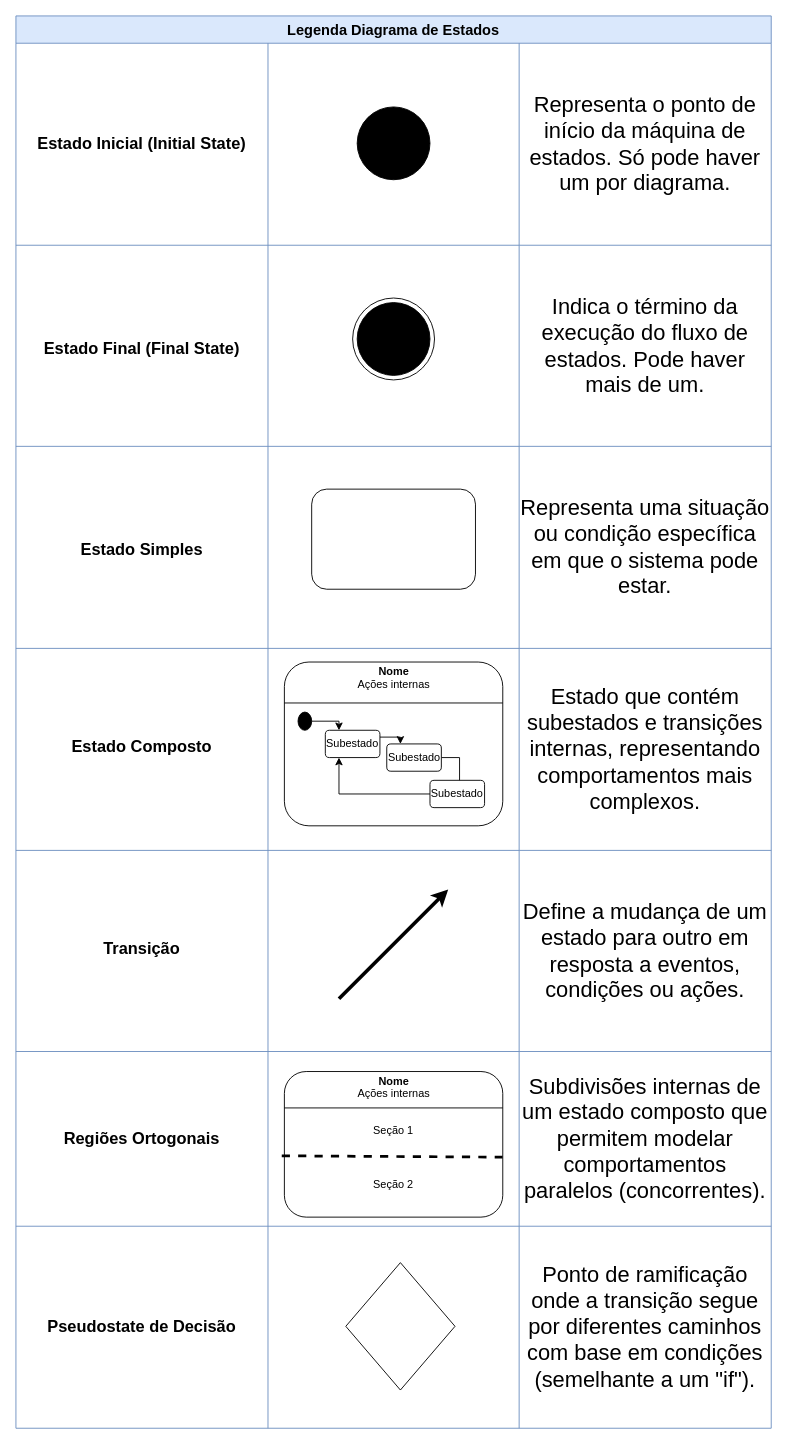
Some shapes in this 787 by 1444 pixel diagram are drawn without their labels. The shapes that lost their labels are listed below. From the top down, each one's centre as x and y in pixels, then its label:
point 393,538: <<Estado>>
point 400,1326: Escolha
